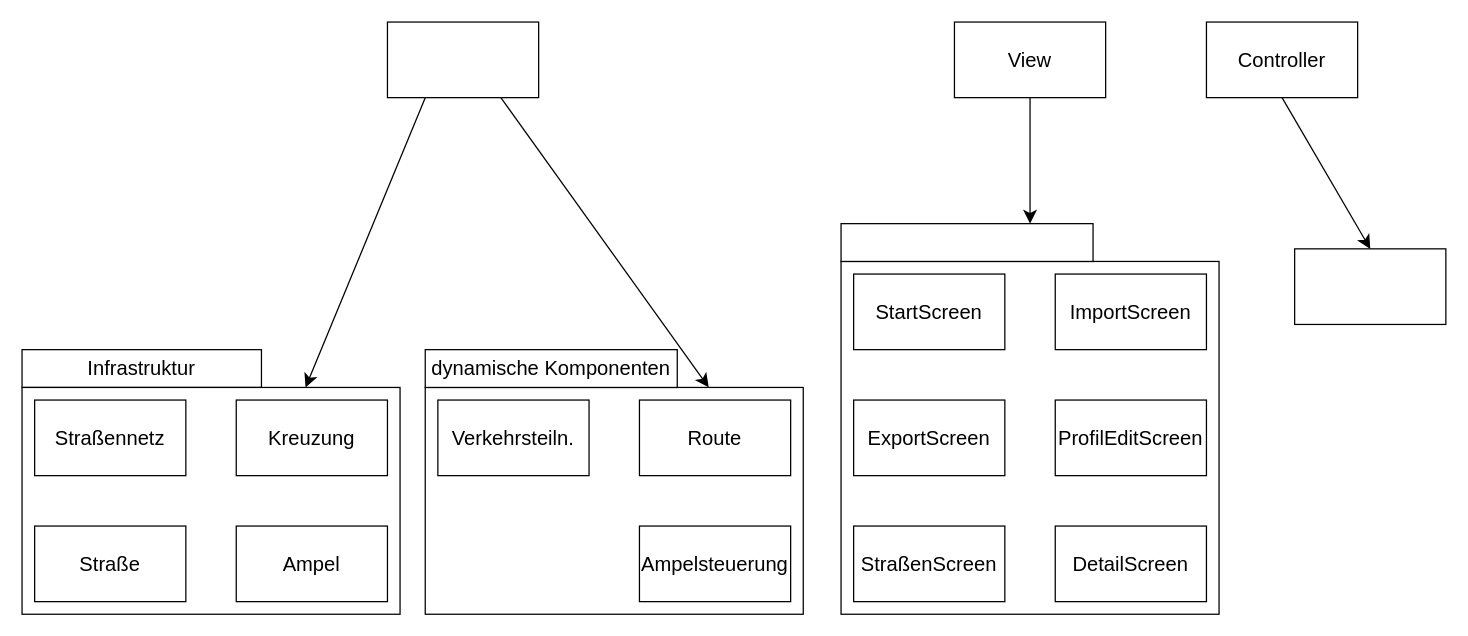
Some shapes in this 1468 by 636 pixel diagram are drawn without their labels. Here are the shapes that lost their labels. From the top down, the box of each, then its label:
(386, 21, 539, 98): Model
(840, 222, 1093, 261): views
(1293, 248, 1446, 324): Simulation
